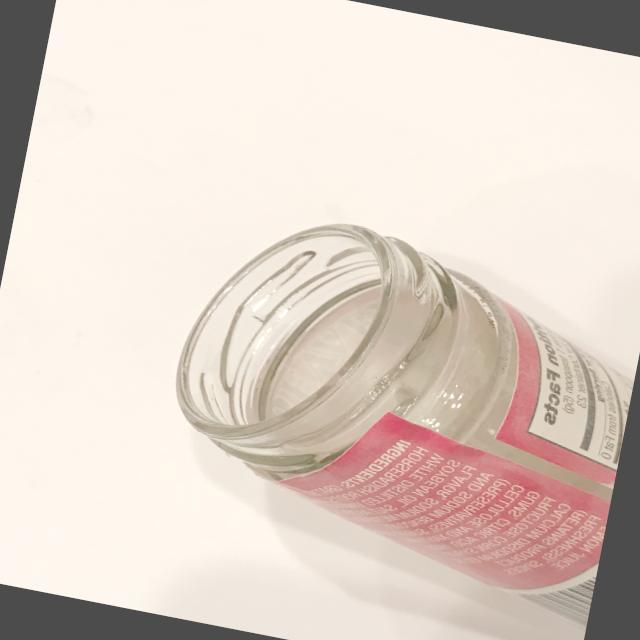Glass: (127, 184, 640, 640)
